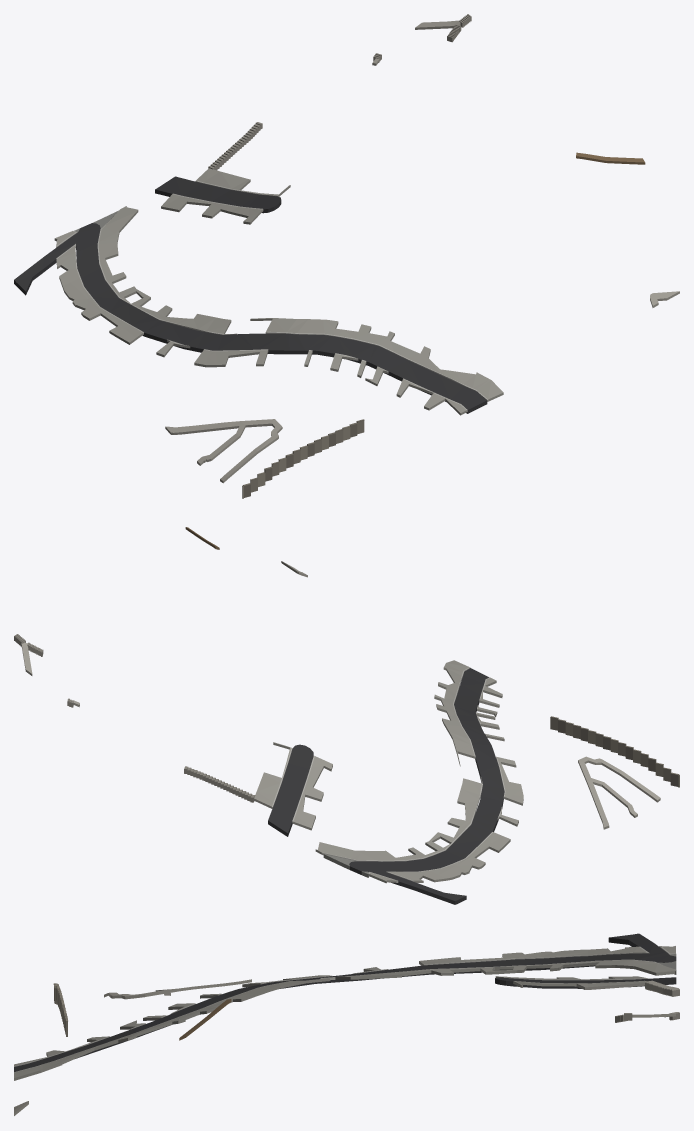
3 views of the same model, one above another, from view 1: azimuth 30°, elevation 25°; view 2: azimuth 150°, elevation 25°; view 3: azimuth 270°, elevation 25° (orthographic). The views are drawn at different scales.
Bounding box in the file's own units: 147 × 64.92 × 147.
